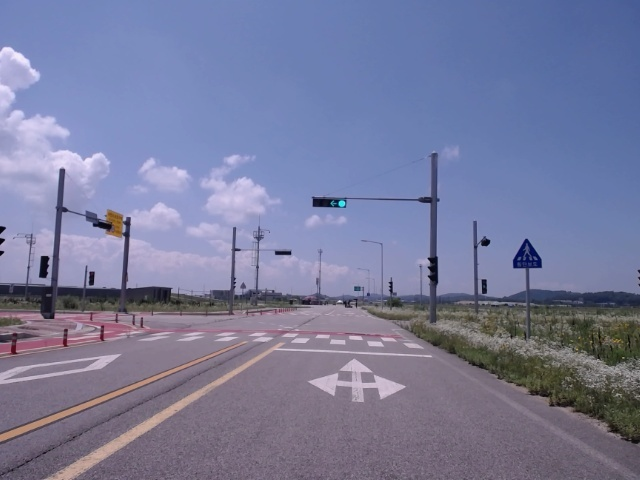all_green_4: (312, 195, 349, 209)
